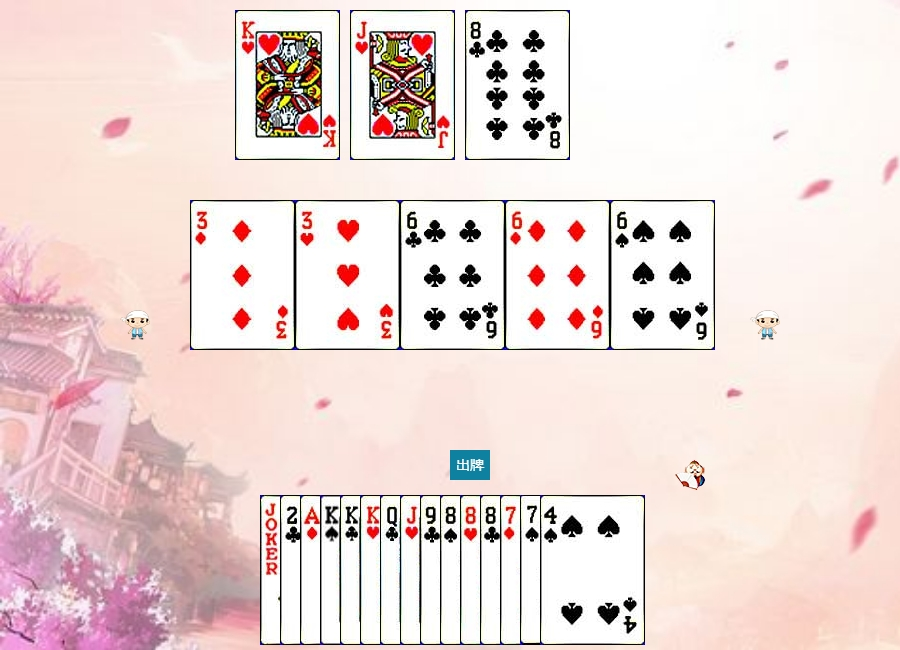11~3: (350, 10, 455, 160), (400, 495, 505, 645)
12~2: (380, 495, 485, 645)
13~2: (340, 495, 445, 645)
13~3: (235, 10, 340, 160), (360, 495, 465, 645)
13~4: (320, 495, 425, 645)
14~1: (300, 495, 405, 645)
15~2: (280, 495, 385, 645)
18~4: (260, 495, 365, 645)
3~1: (190, 200, 295, 350)
3~3: (295, 200, 400, 350)
4~4: (540, 495, 645, 645)
6~1: (505, 200, 610, 350)
6~2: (400, 200, 505, 350)
6~4: (610, 200, 715, 350)
7~1: (500, 495, 605, 645)
7~4: (520, 495, 625, 645)
8~2: (465, 10, 570, 160), (480, 495, 585, 645)
8~3: (460, 495, 565, 645)
8~4: (440, 495, 545, 645)
9~2: (420, 495, 525, 645)
